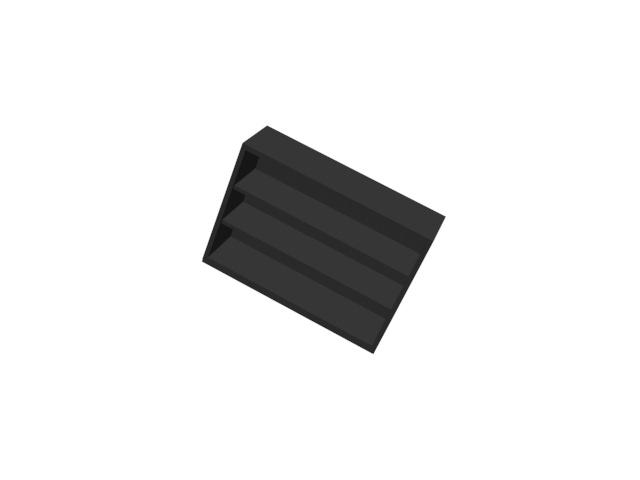bookcase: (201, 121, 448, 360)
